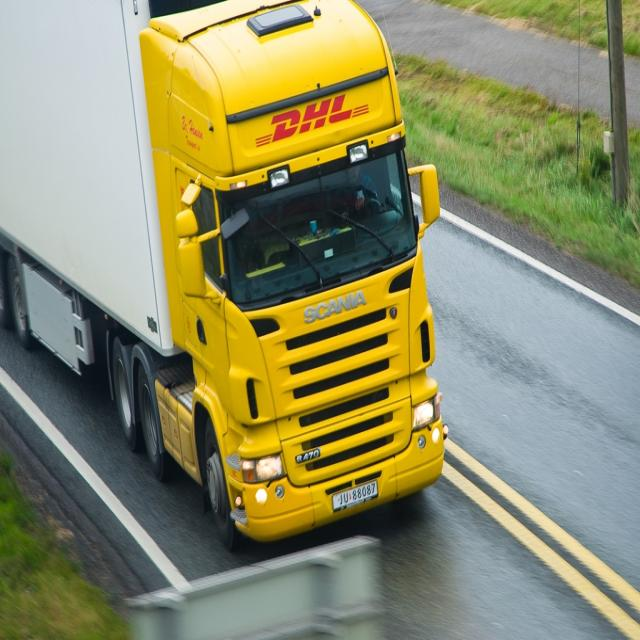dhl: (250, 93, 376, 153)
